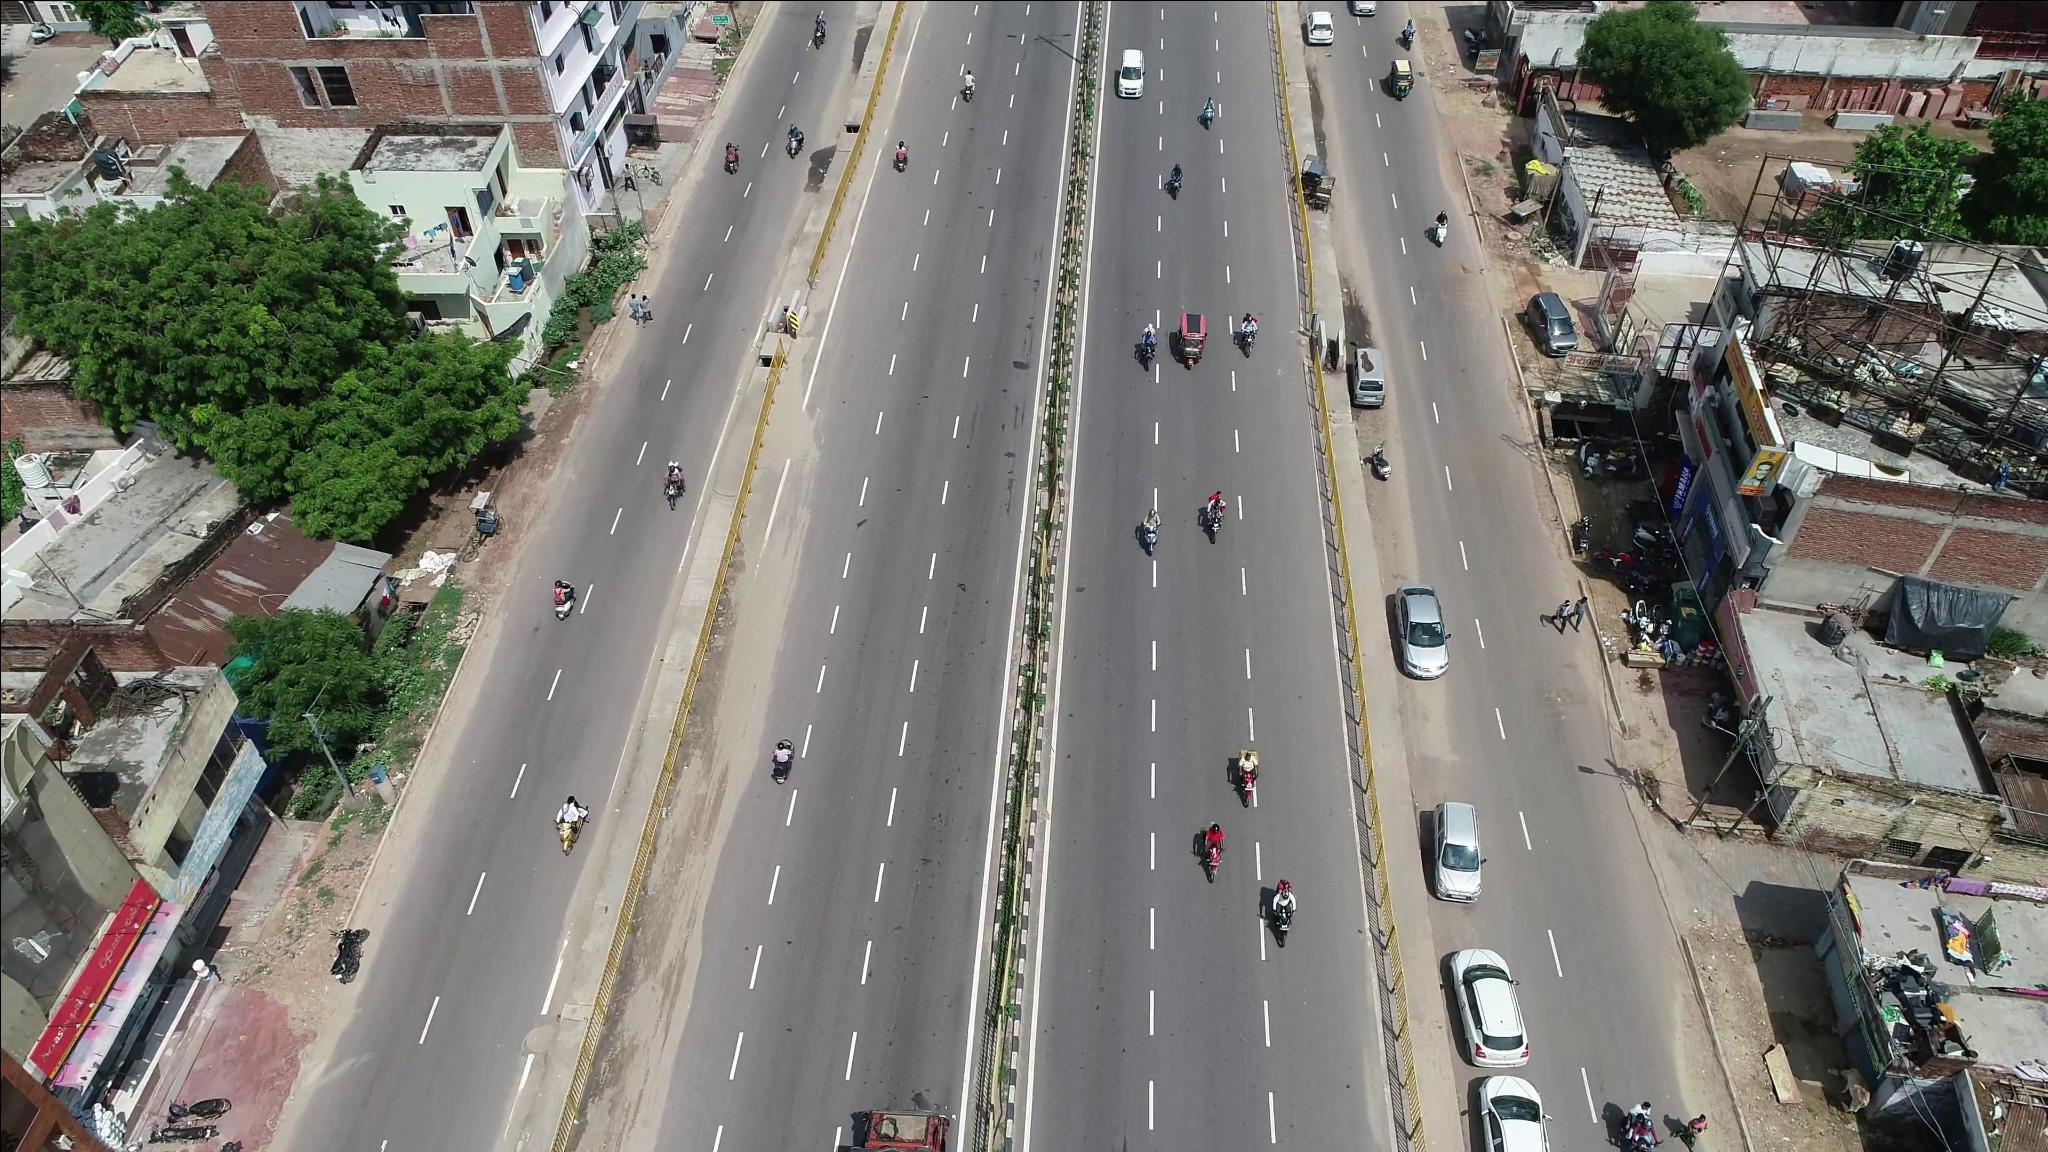Muddy_road: (661, 588, 776, 862), (596, 879, 709, 1122)
